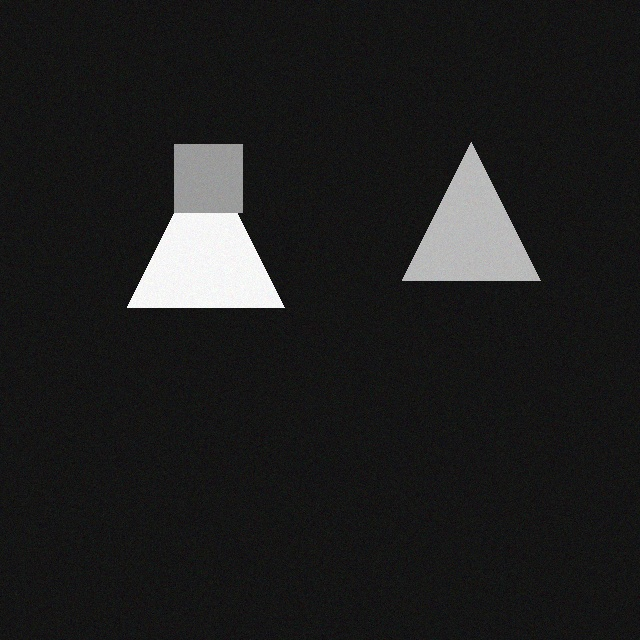square: (186, 139, 254, 207)
triangle: (139, 145, 296, 302), (414, 137, 552, 275)
